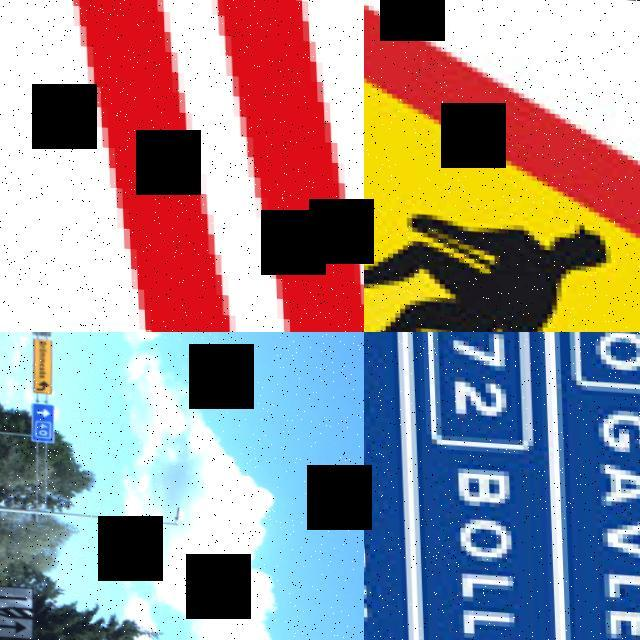156: (364, 0, 640, 332)
172: (26, 396, 59, 441)
173: (26, 332, 58, 392)
66: (0, 578, 35, 636)
Advance direction sign exit ahead from other road than motorway or expressway: (364, 332, 640, 640)
Level crossing countdown marker: (0, 0, 364, 332)
